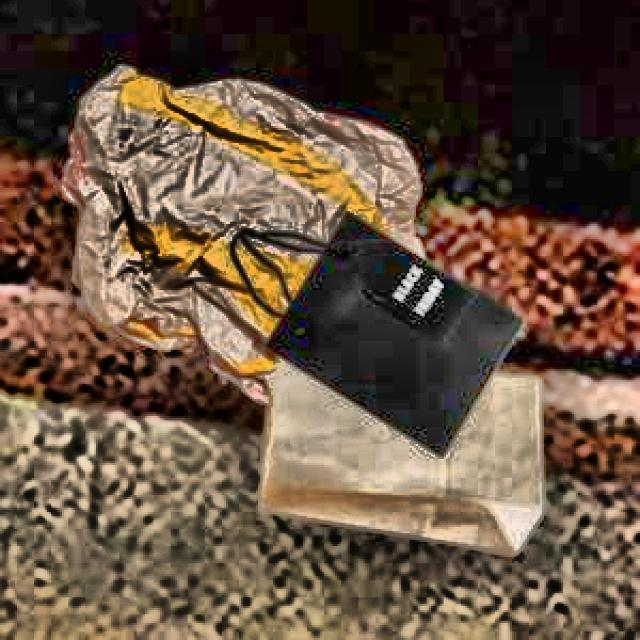Paper-bag: (50, 53, 468, 424), (228, 213, 526, 450), (256, 344, 562, 564)
